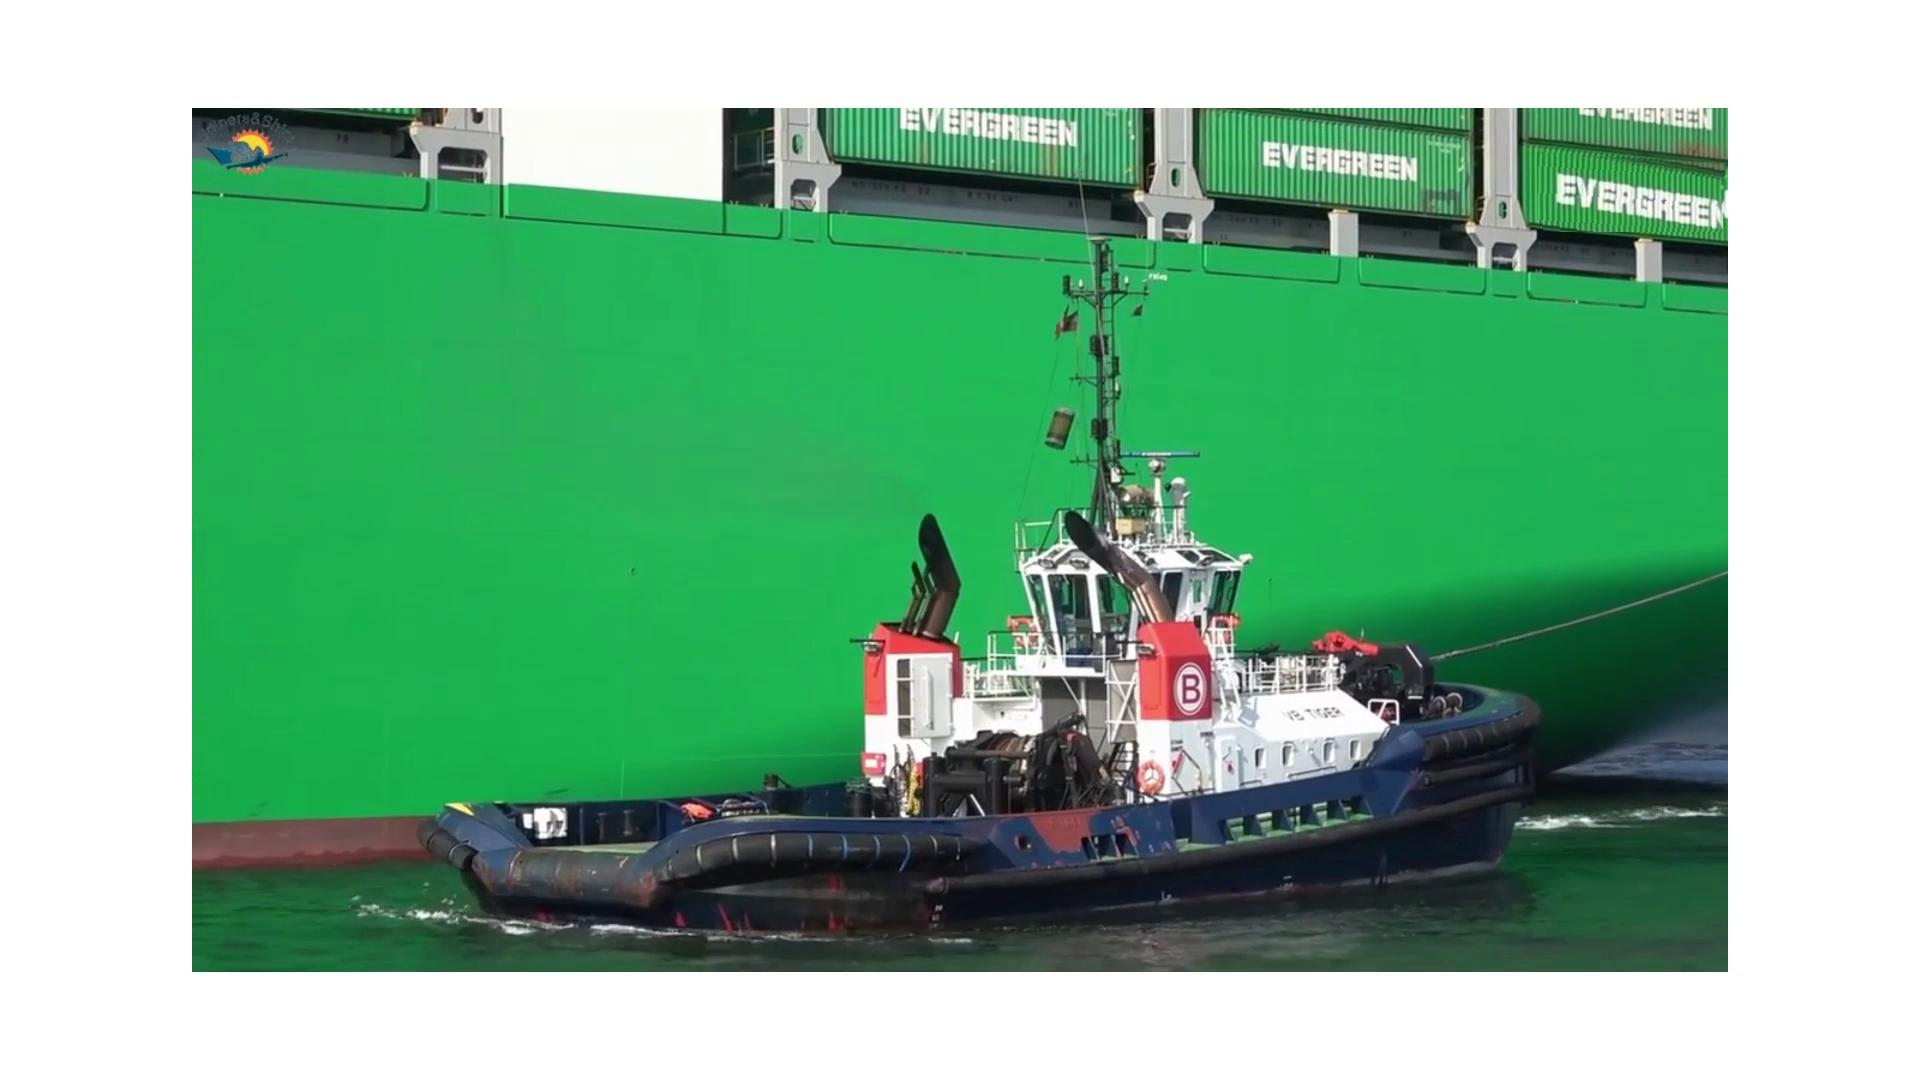OCR: (1538, 152, 1726, 232)
